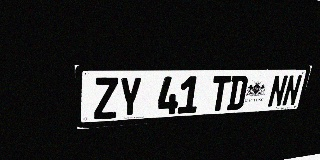1: (177, 76, 200, 114)
4: (157, 76, 180, 115)
D: (226, 75, 249, 110)
N: (267, 75, 289, 107), (281, 75, 303, 106)
T: (209, 76, 231, 112)
Y: (118, 77, 142, 118)
Z: (93, 77, 118, 120)
